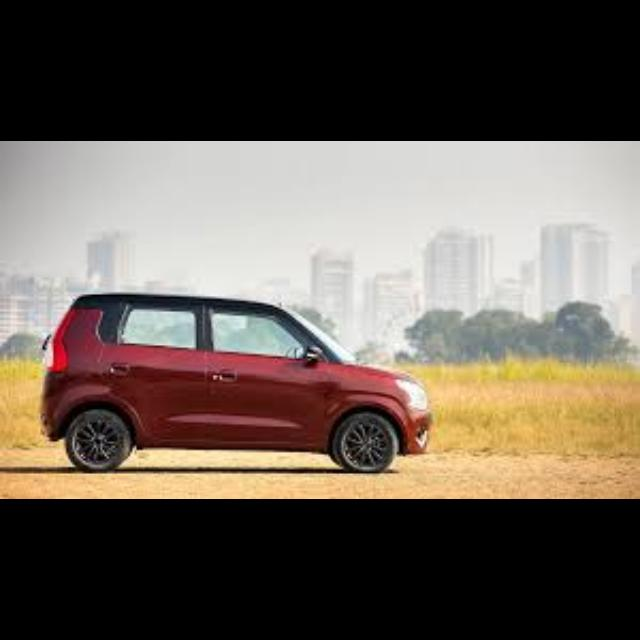vehicles: (34, 284, 436, 476)
